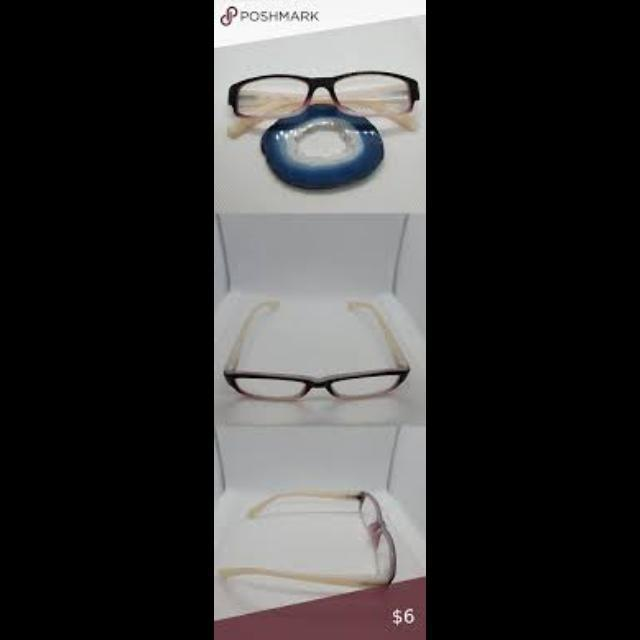mask: (224, 296, 412, 402), (217, 488, 397, 590), (227, 72, 426, 136)
